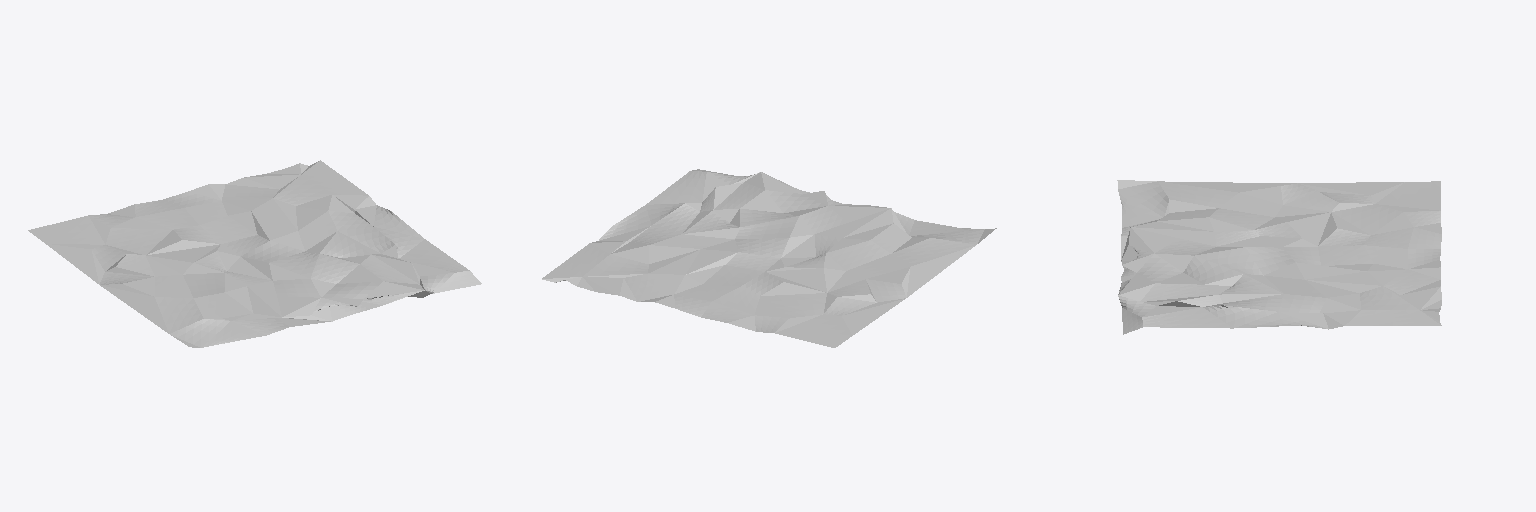
File: temple_land.obj
3 renders of one model, left to right at view 1: azimuth 30°, elevation 25°; view 2: azimuth 150°, elevation 25°; view 3: azimuth 270°, elevation 25°, orthographic.
Parts seen in each view (by area): view 1: Плоскость.001; view 2: Плоскость.001; view 3: Плоскость.001.
Boxes of the visible parts, x1=… form: Плоскость.001: x1=28, y1=160, x2=481, y2=347; Плоскость.001: x1=542, y1=169, x2=996, y2=347; Плоскость.001: x1=1117, y1=180, x2=1441, y2=334.
Size of the model in its own units: 45.42 by 1.99 by 43.26.